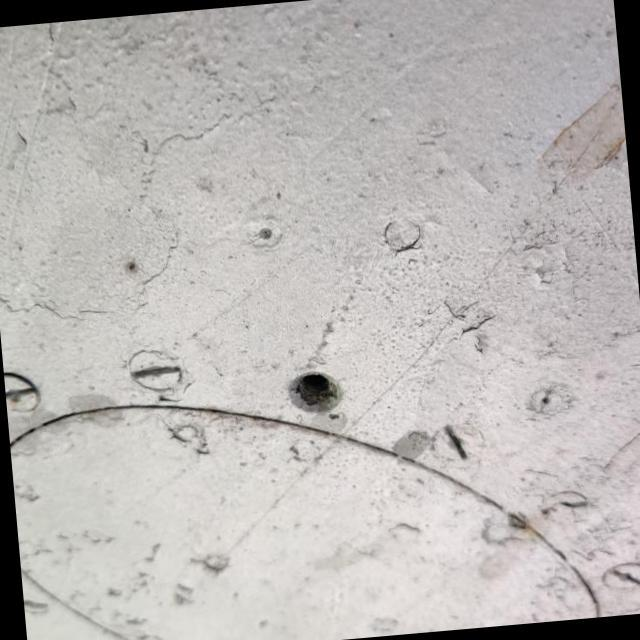Fastener Damage: (247, 330, 381, 460)
